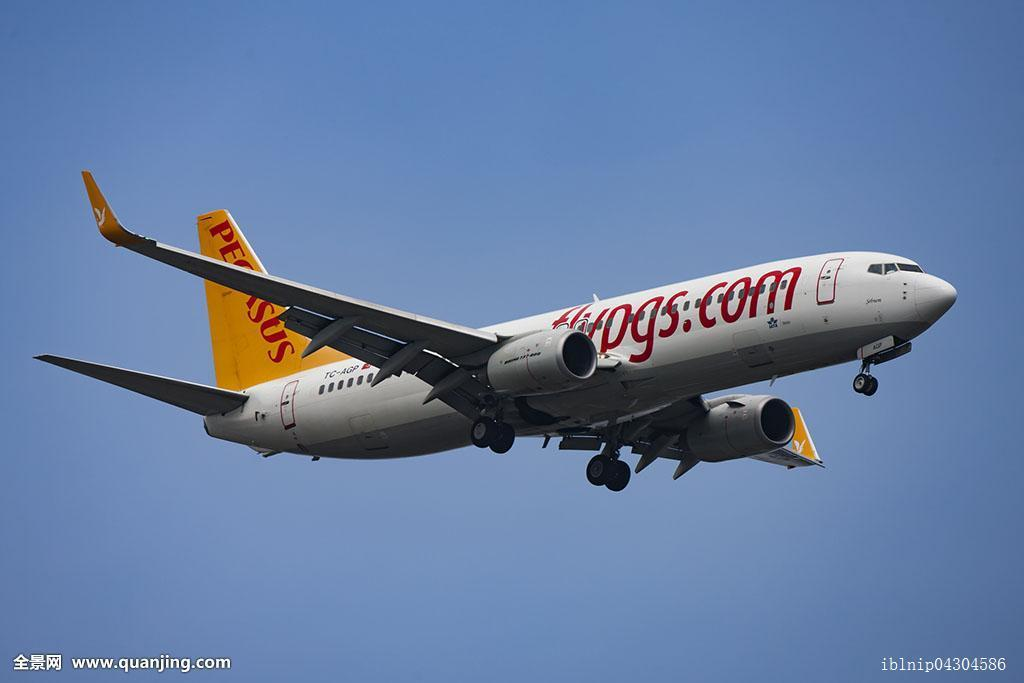airplane: (34, 170, 960, 490)
